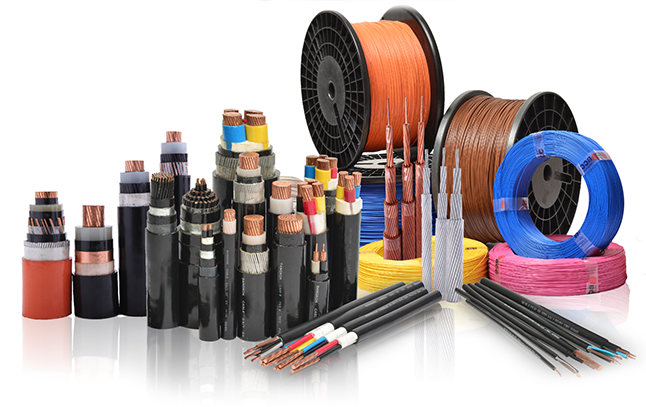Nonrec_Tangler: (9, 5, 644, 373), (434, 81, 604, 251), (282, 6, 468, 157), (179, 180, 238, 341), (24, 185, 76, 329)
